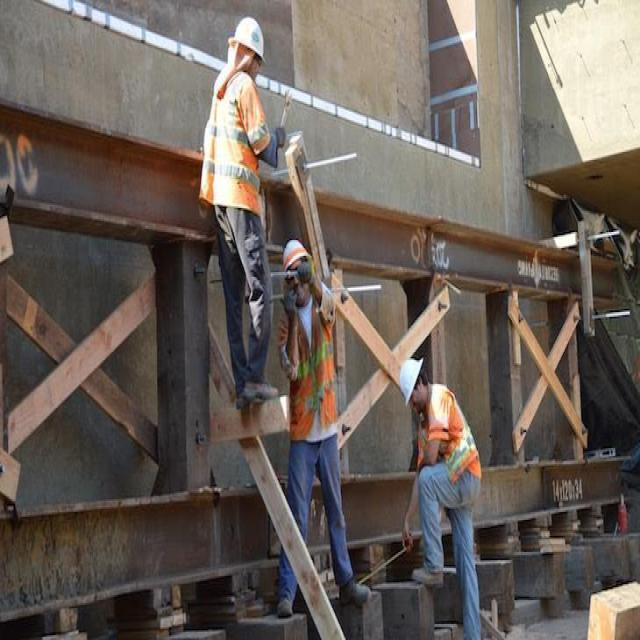Vest: (203, 67, 274, 227), (284, 293, 336, 435), (429, 387, 475, 477)
